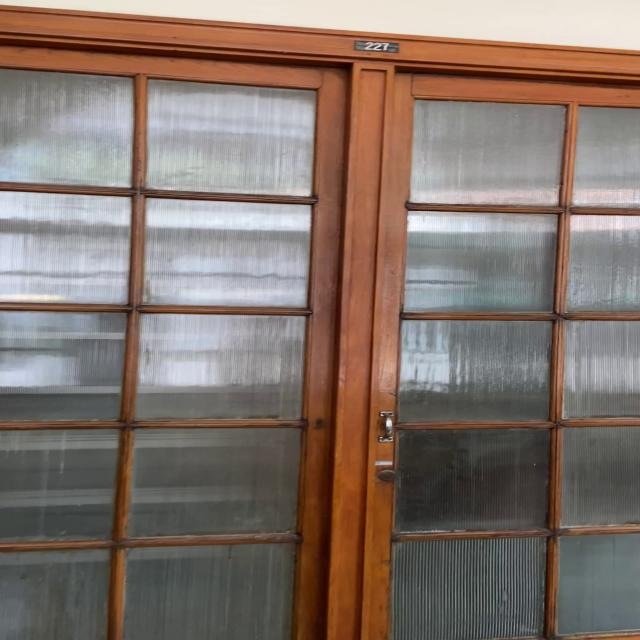room227: (350, 38, 401, 54)
